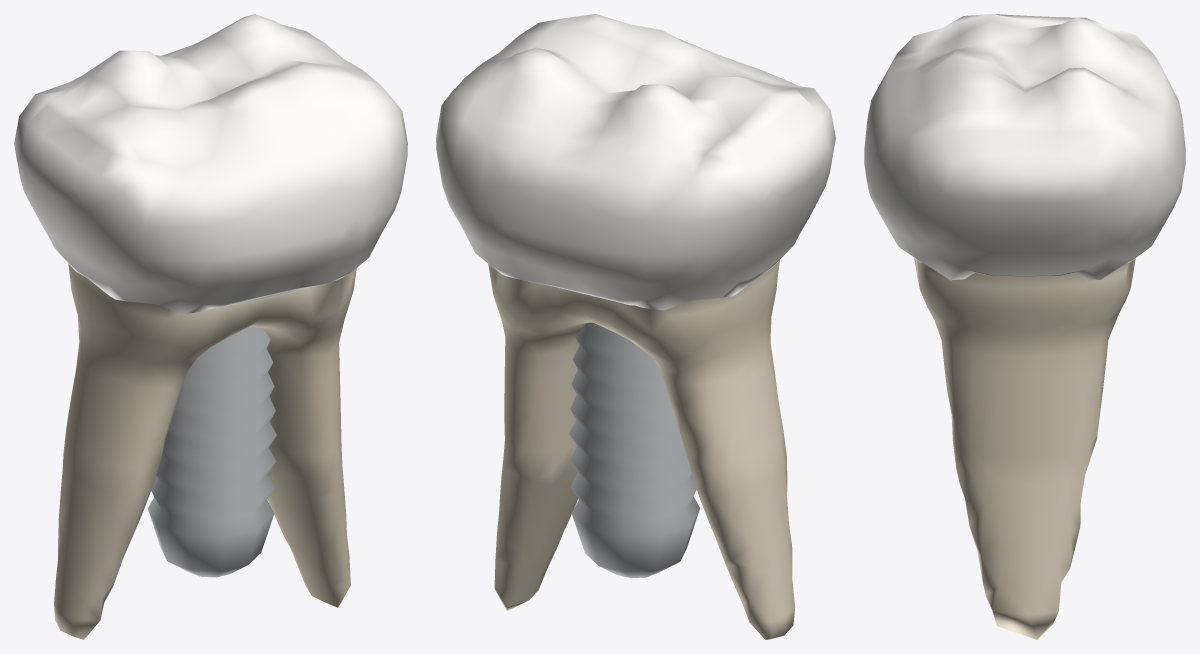
The picture shows the model from 3 angles, left to right: view 1: azimuth 30°, elevation 25°; view 2: azimuth 150°, elevation 25°; view 3: azimuth 270°, elevation 25°; orthographic projection. The views are drawn at different scales.
Parts seen in each view (by area): view 1: crown, root, implant; view 2: crown, root, implant; view 3: crown, root.
Part boxes in pixels (box(x1,y1,x2,y2)): crown: box(14, 14, 407, 314); root: box(54, 263, 356, 639); implant: box(148, 326, 276, 577); crown: box(436, 14, 835, 310); root: box(488, 260, 795, 639); implant: box(569, 322, 699, 578); crown: box(864, 14, 1185, 280); root: box(914, 258, 1135, 639).
Bounding box in the file's own units: 10.51 × 17.58 × 9.39.
